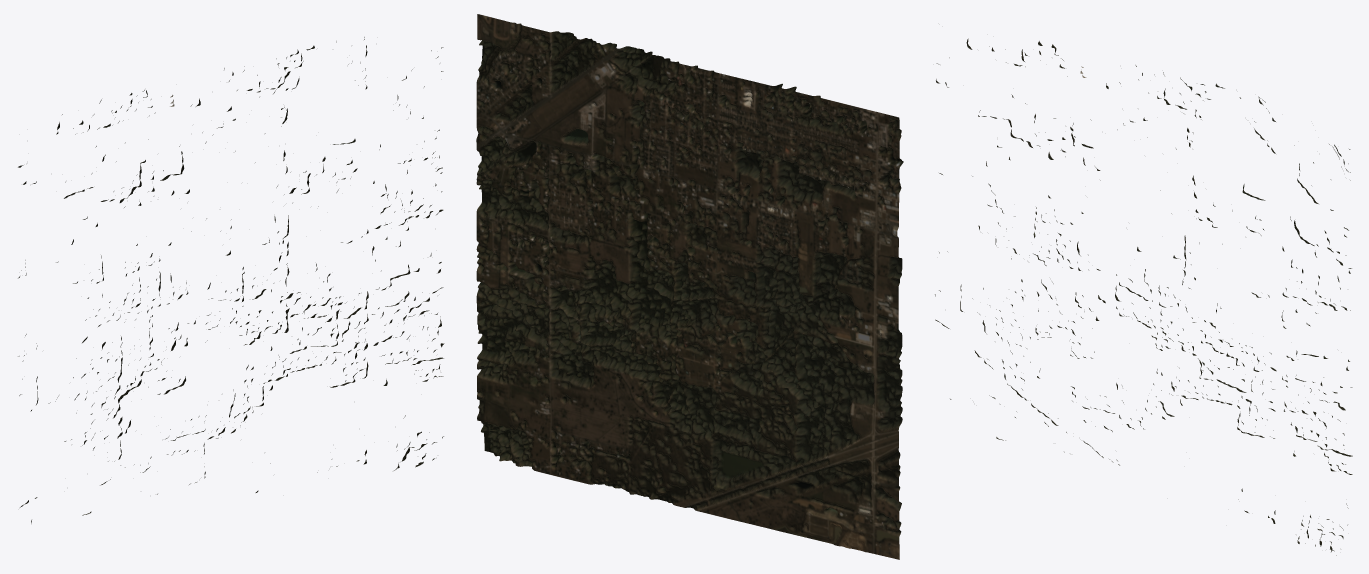
File: urban_depthwizard_3d.glb
3 views of the same model, side by side, from view 1: azimuth 30°, elevation 25°; view 2: azimuth 150°, elevation 25°; view 3: azimuth 330°, elevation 25° (orthographic).
Visible parts, largest first — view 1: geometry_0; view 2: geometry_0; view 3: geometry_0.
Part boxes in pixels (x1,y1,x2,y2): geometry_0: (18, 37, 444, 523); geometry_0: (476, 14, 903, 559); geometry_0: (935, 38, 1352, 555).
Bounding box in the file's own units: 511 × 511 × 22.79.
1 material, 1 textured.
